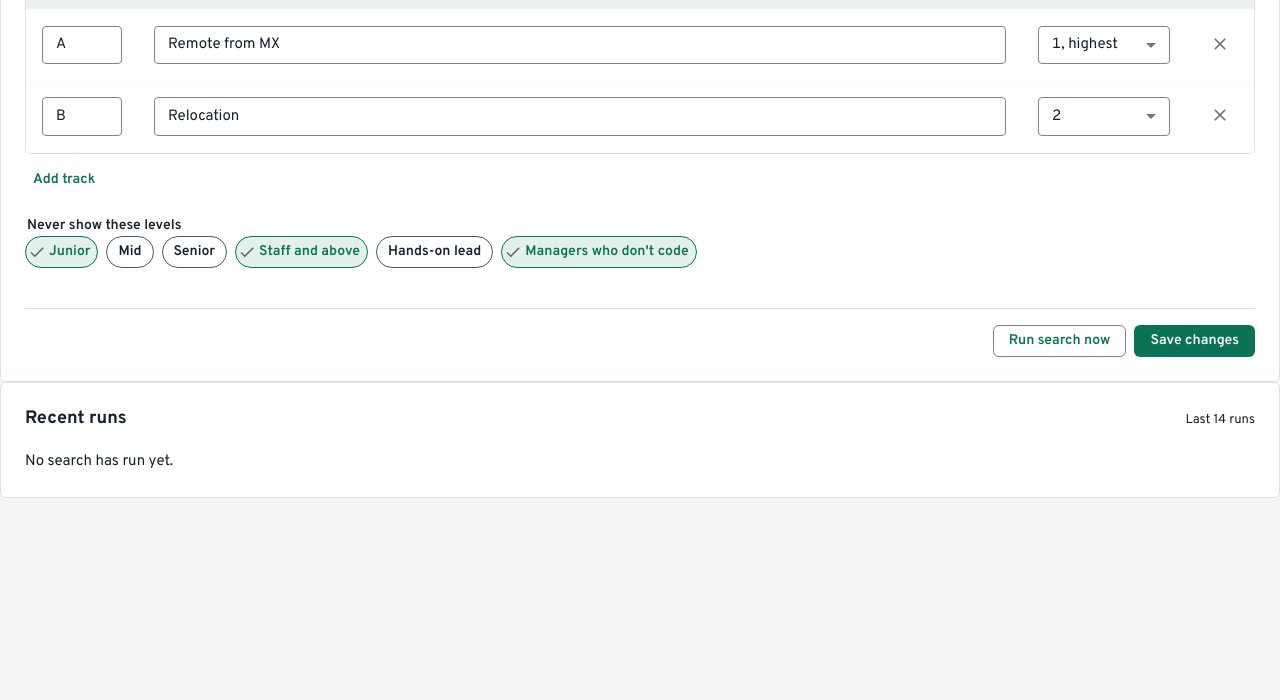
Test case: Settings, Job search › Run search now posts /search/run and says it started
(page scrolled)
Click the button "Run search now" at (1060, 341), box [993, 325, 1126, 357]
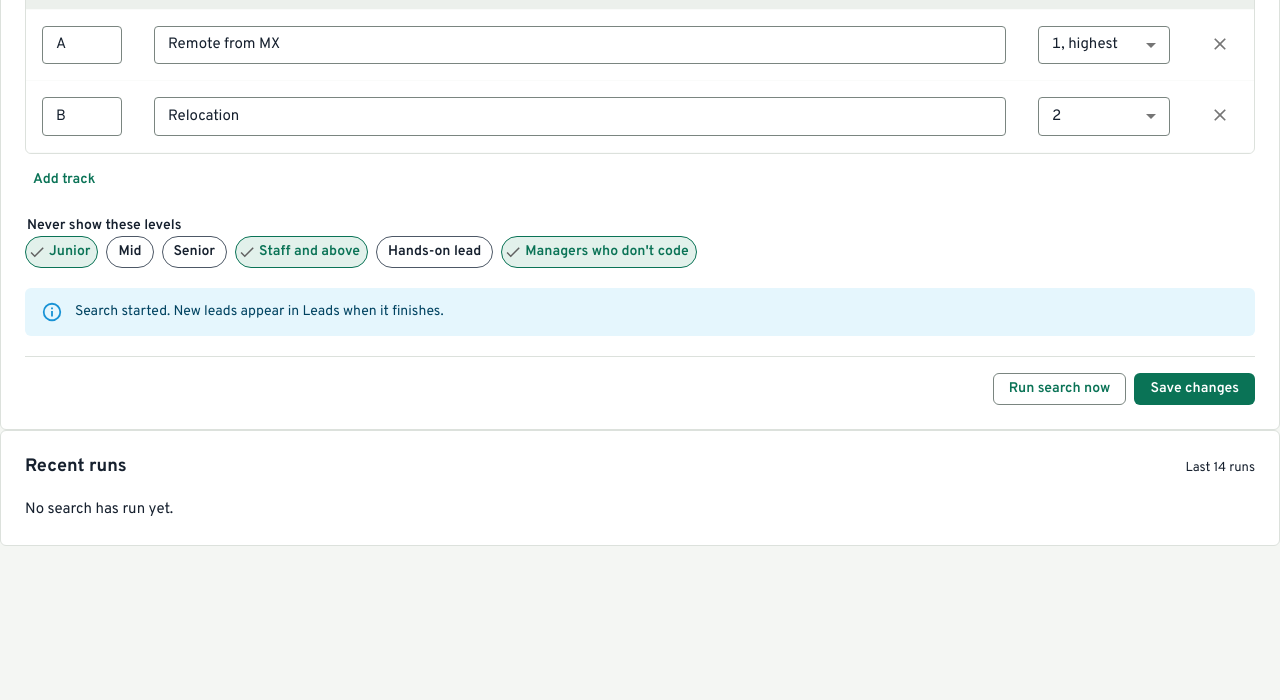
Now the text "Search started. New leads appear in Leads when it finishes." is shown, box [75, 303, 444, 320]
